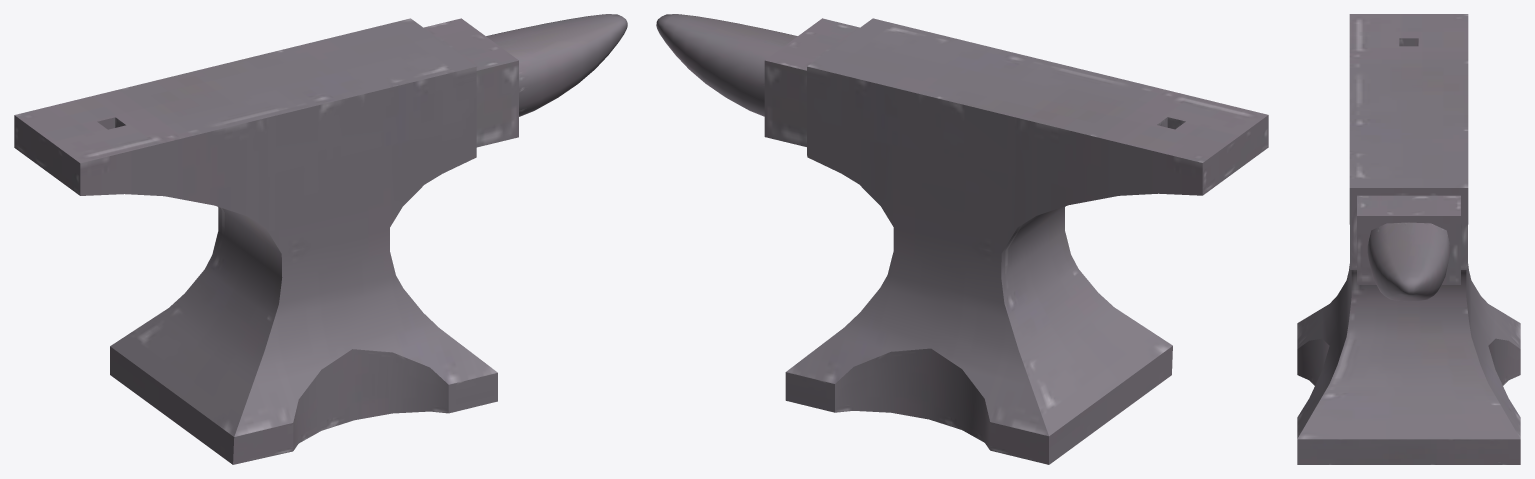
The model's file is Anvil.gltf.
3 views of the same model, side by side, from view 1: azimuth 30°, elevation 25°; view 2: azimuth 150°, elevation 25°; view 3: azimuth 270°, elevation 25° (orthographic). The views are drawn at different scales.
Visible parts, largest first — view 1: Anvil; view 2: Anvil; view 3: Anvil.
Part boxes in pixels (x1,y1,x2,y2): Anvil: (14, 14, 627, 464); Anvil: (656, 14, 1268, 464); Anvil: (1297, 14, 1520, 464).
Size of the model in its own units: 1.08 by 0.556 by 0.4015.
1 material, 1 textured.
